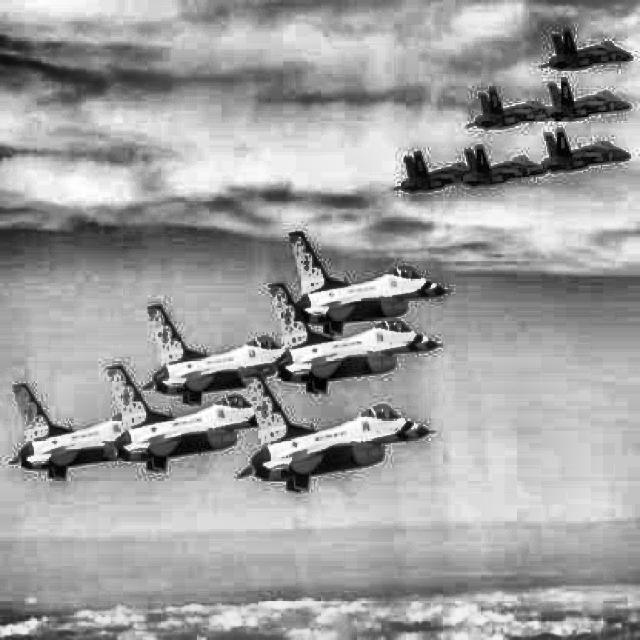F16: (237, 372, 435, 494), (267, 282, 444, 396), (288, 229, 452, 337), (102, 365, 258, 473), (142, 305, 283, 406), (9, 382, 122, 481)
F18: (530, 126, 632, 174), (453, 143, 549, 189), (538, 26, 632, 71), (545, 75, 632, 123), (392, 150, 471, 196), (466, 85, 548, 128)
